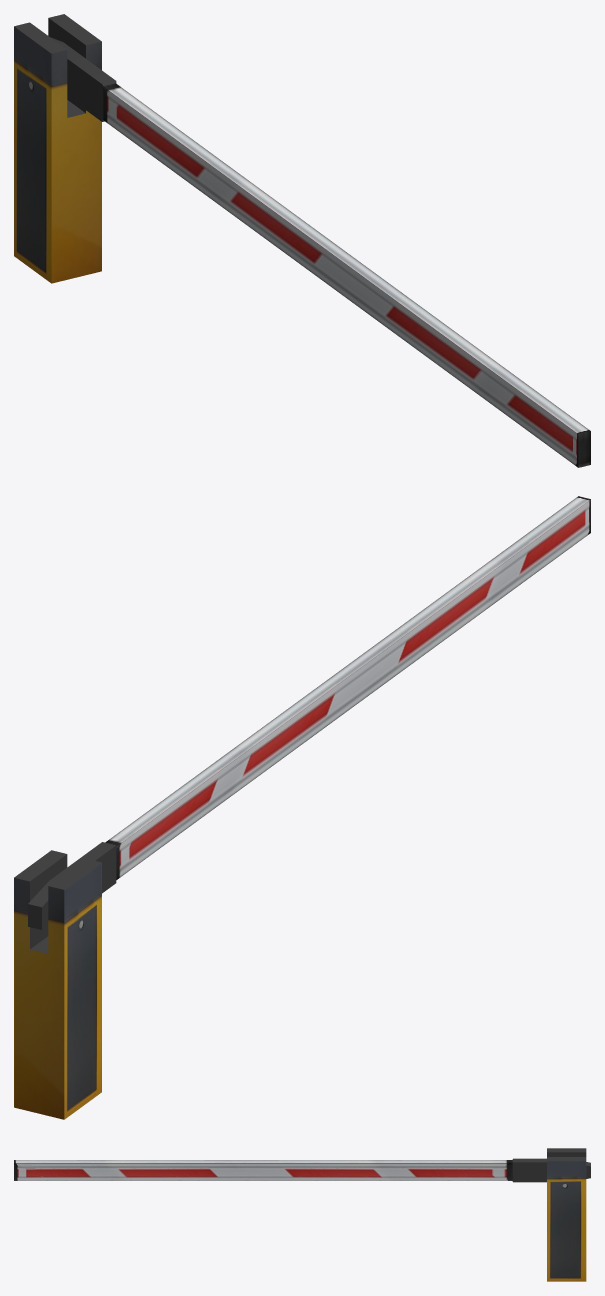
File: sm_cross_bar_001.FBX
3 views of the same model, one above another, from view 1: azimuth 30°, elevation 25°; view 2: azimuth 150°, elevation 25°; view 3: azimuth 270°, elevation 25° (orthographic). The views are drawn at different scales.
Parts seen in each view (by area): view 1: sm_cross_bar_001; view 2: sm_cross_bar_001; view 3: sm_cross_bar_001.
Part boxes in pixels (x1=…): sm_cross_bar_001: x1=14, y1=14, x2=590, y2=467; sm_cross_bar_001: x1=14, y1=496, x2=590, y2=1119; sm_cross_bar_001: x1=14, y1=1148, x2=590, y2=1281.
Size of the model in its own units: 44.51 by 194 by 842.
